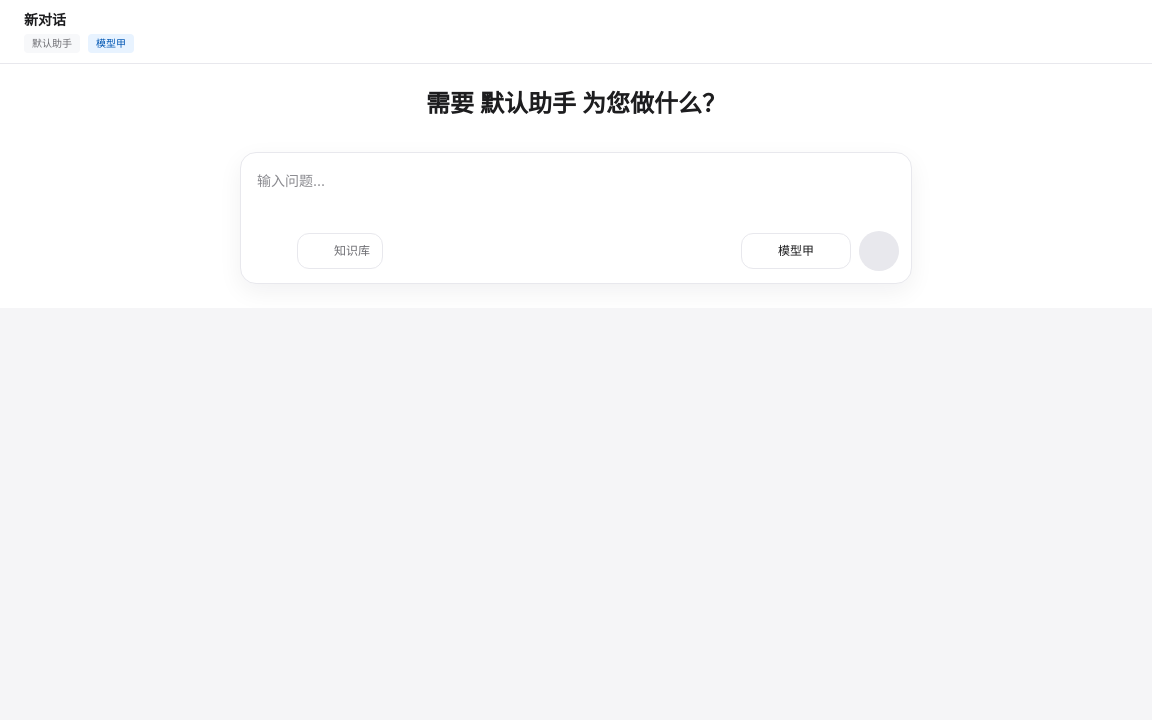
Chat 知识库挂载 › 关闭知识库把已生效的选择一起清掉
Click the button "知识库". click: [340, 251]
box: [297,233,383,269]
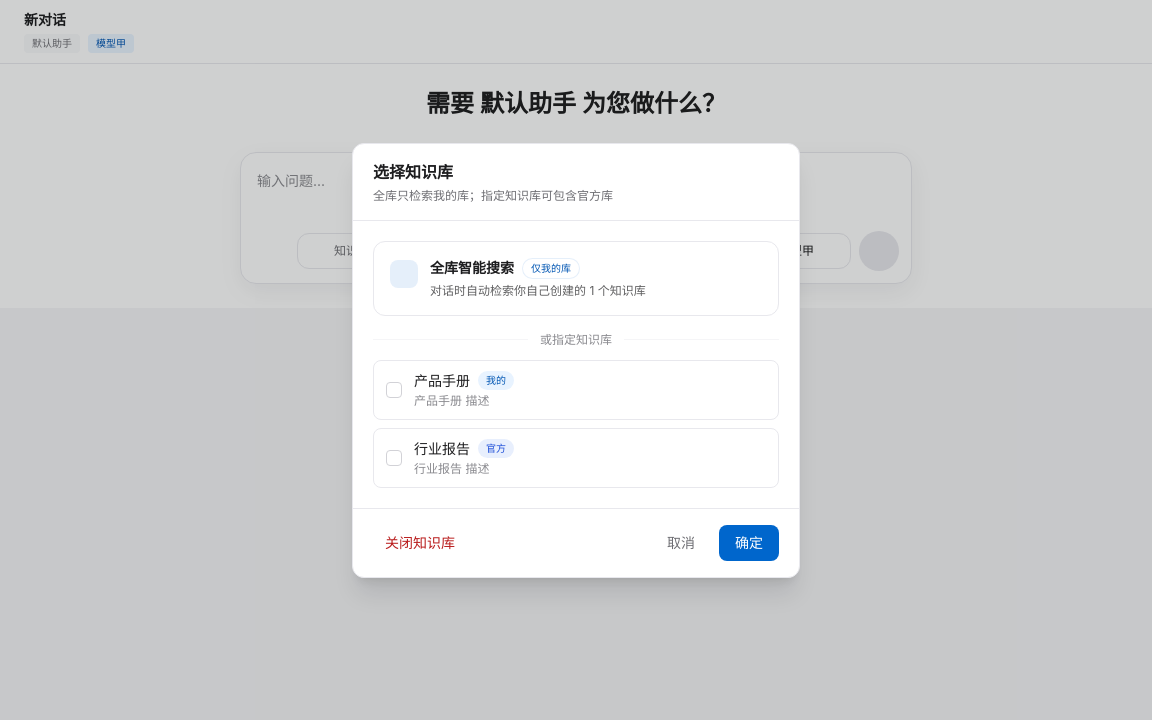
Click the button "产品手册 我的 产品手册 描述". click: [442, 380]
box: [373,360,779,420]
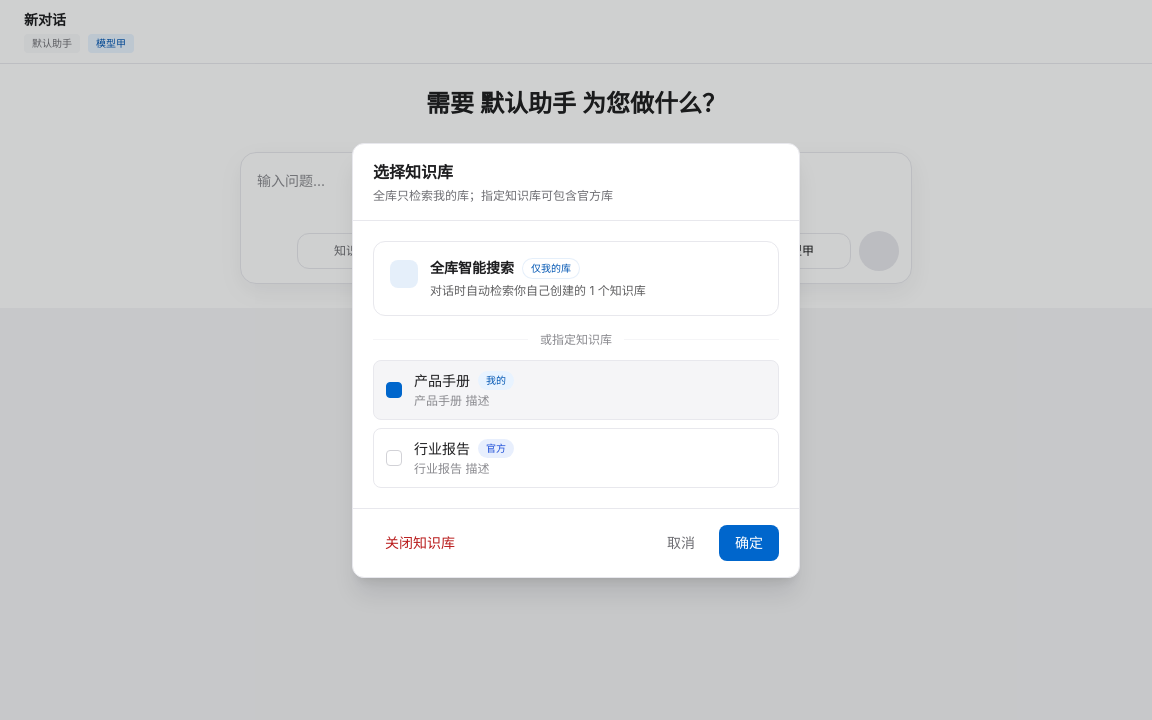
Click the button "确定". click: [749, 542]
box: [719,524,779,560]
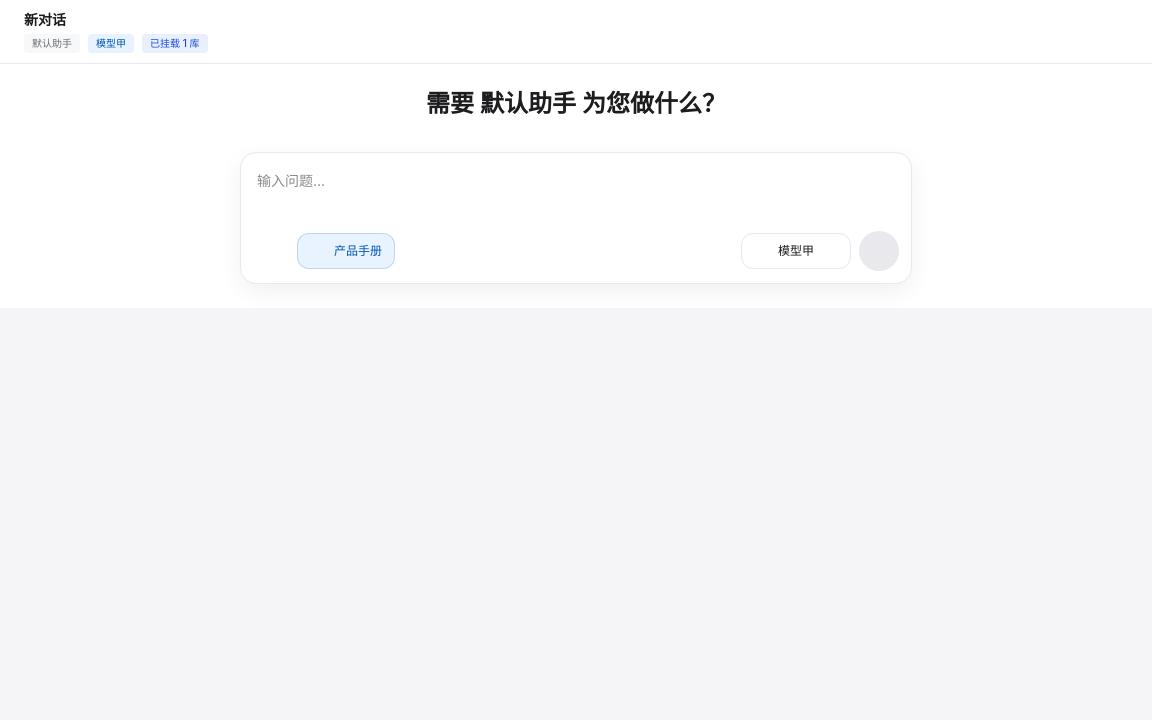
Expected: the text "已挂载 1 库" is shown, [142,34,208,53]
Click the button "产品手册". click: [346, 251]
box: [297,233,395,269]
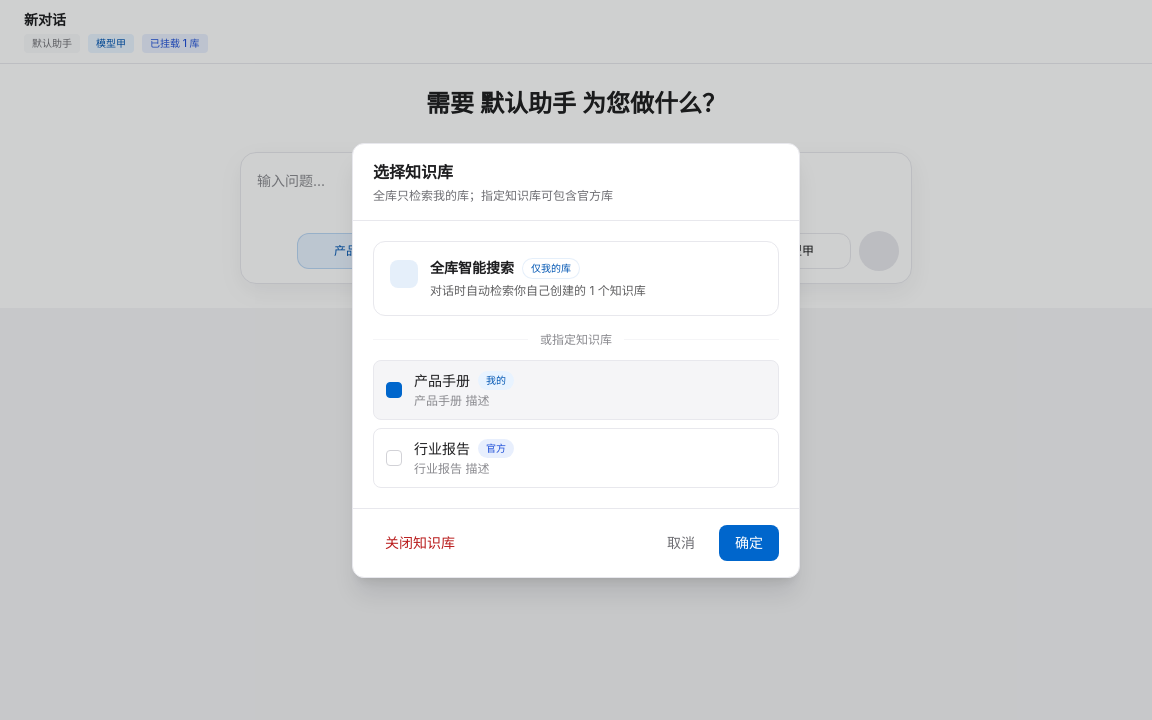
Click the button "关闭知识库". click: [420, 542]
box: [373,524,467,560]
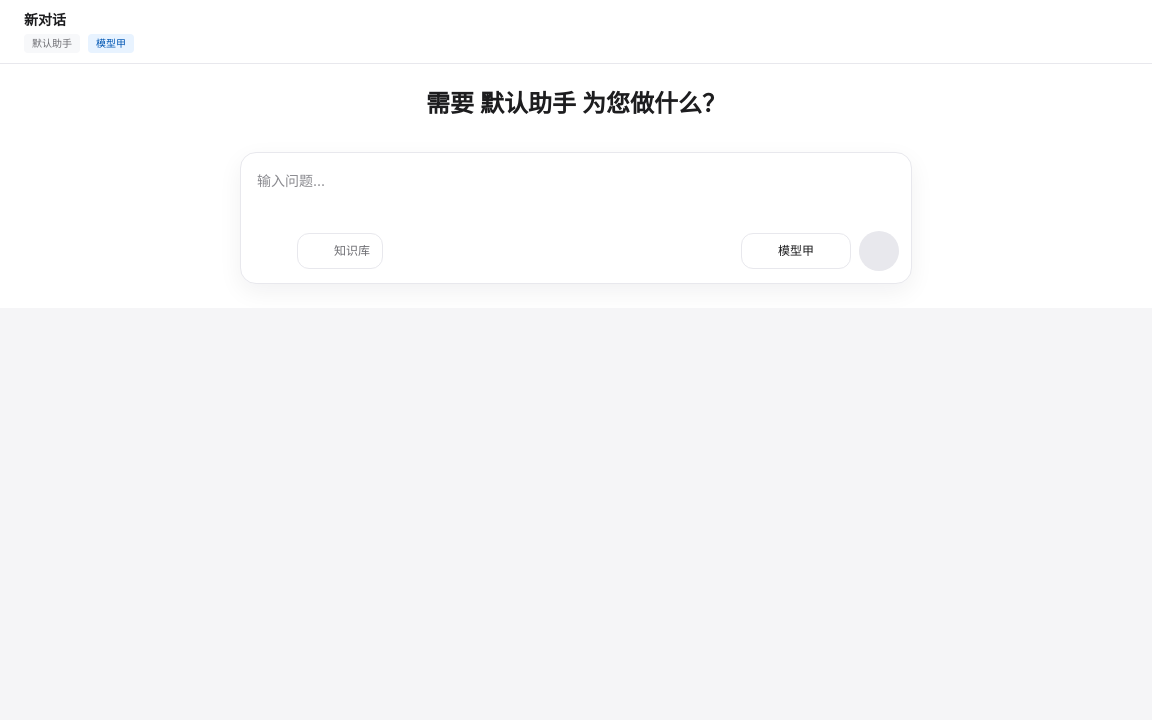
Expected: the button "知识库" is shown, [297,233,383,269]
Expected: the text "已挂载" is gone
